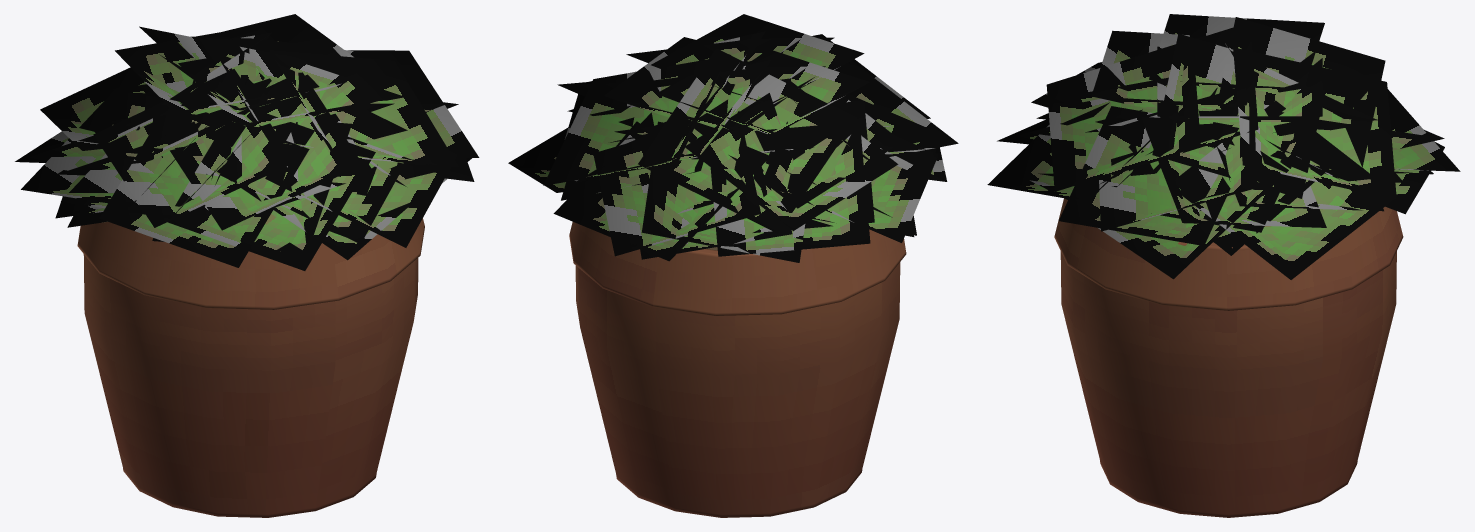
Rendered from a_com_house_a01_plant04.gltf.
3 renders of one model, left to right at view 1: azimuth 30°, elevation 25°; view 2: azimuth 150°, elevation 25°; view 3: azimuth 270°, elevation 25°, orthographic. The views are drawn at different scales.
Parts seen in each view (by area): view 1: um_a_com_house_a01_plant04_model_a_com_house_a01_plant04_mod (×2); view 2: um_a_com_house_a01_plant04_model_a_com_house_a01_plant04_mod (×2); view 3: um_a_com_house_a01_plant04_model_a_com_house_a01_plant04_mod (×2).
Boxes of the visible parts, <box> form: um_a_com_house_a01_plant04_model_a_com_house_a01_plant04_mod (×2): <box>15,14,479,517</box>; um_a_com_house_a01_plant04_model_a_com_house_a01_plant04_mod (×2): <box>508,14,958,517</box>; um_a_com_house_a01_plant04_model_a_com_house_a01_plant04_mod (×2): <box>987,14,1460,517</box>.
Bounding box in the file's own units: 0.6718 × 0.6808 × 0.682.
Materials: 2 (2 with a texture image).
